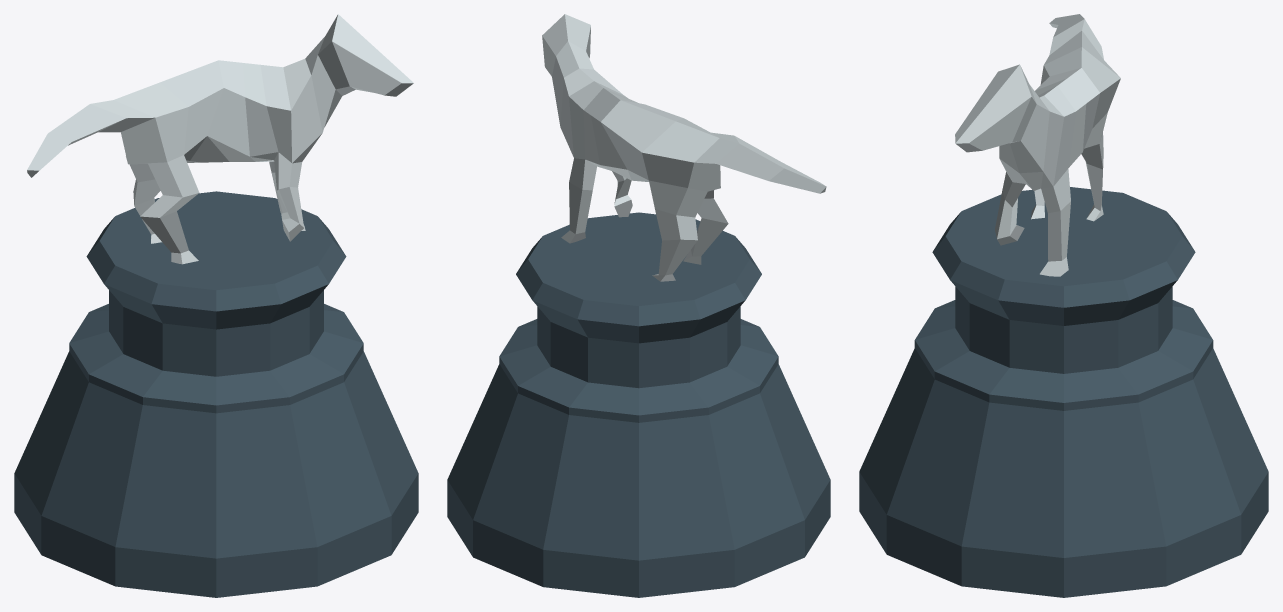
File: Doggi statue.glb
The picture shows the model from 3 angles, left to right: view 1: azimuth 30°, elevation 25°; view 2: azimuth 150°, elevation 25°; view 3: azimuth 270°, elevation 25°; orthographic projection. The views are drawn at different scales.
Visible parts, largest first — view 1: group1968237734, group313572034; view 2: group1968237734, group313572034; view 3: group1968237734, group313572034.
Part boxes in pixels (x1,y1,x2,y2): group1968237734: (14,191,418,597); group313572034: (27,14,413,264); group1968237734: (447,212,830,597); group313572034: (542,14,826,281); group1968237734: (859,187,1268,597); group313572034: (955,14,1120,276).
Size of the model in its own units: 0.9798 by 1.24 by 0.93.
